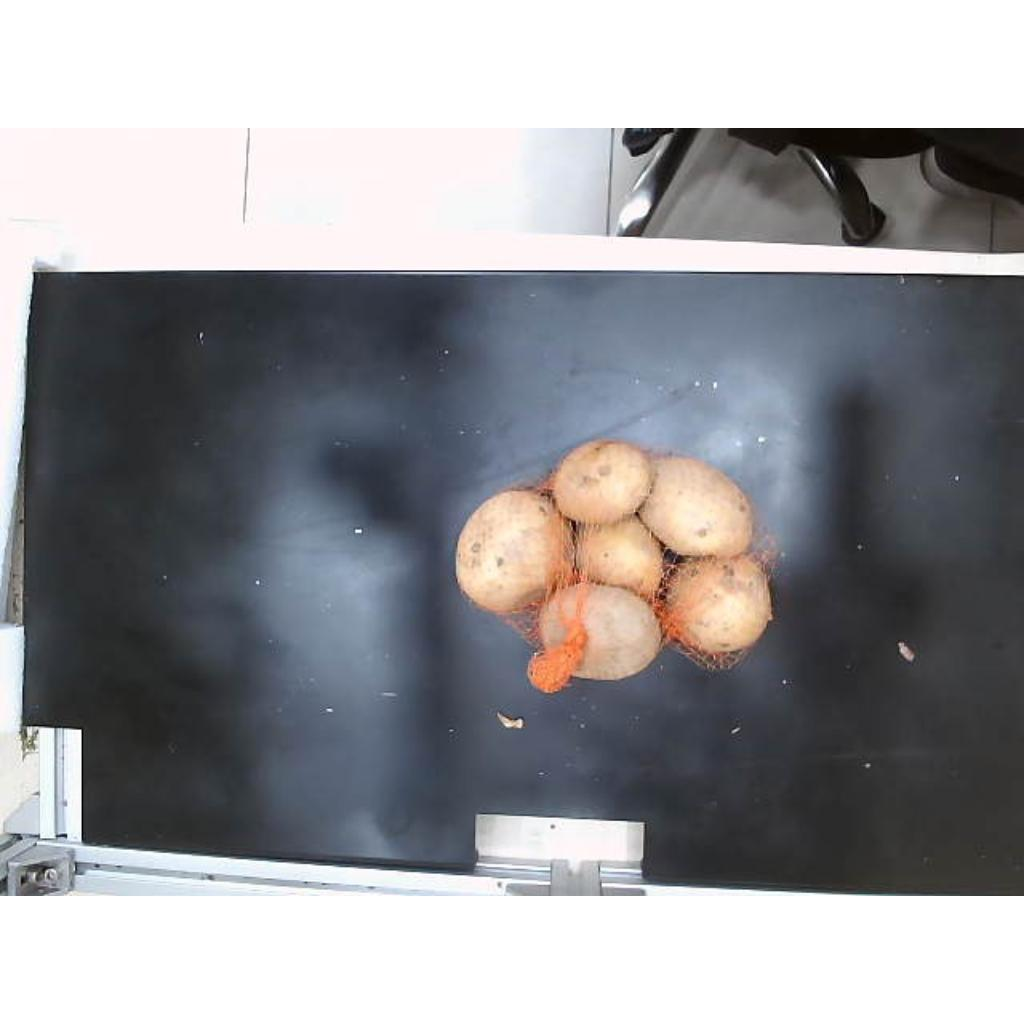potato: (528, 584, 662, 691), (456, 490, 570, 613), (640, 458, 754, 556), (666, 556, 772, 653), (552, 440, 652, 523), (576, 516, 664, 597)
